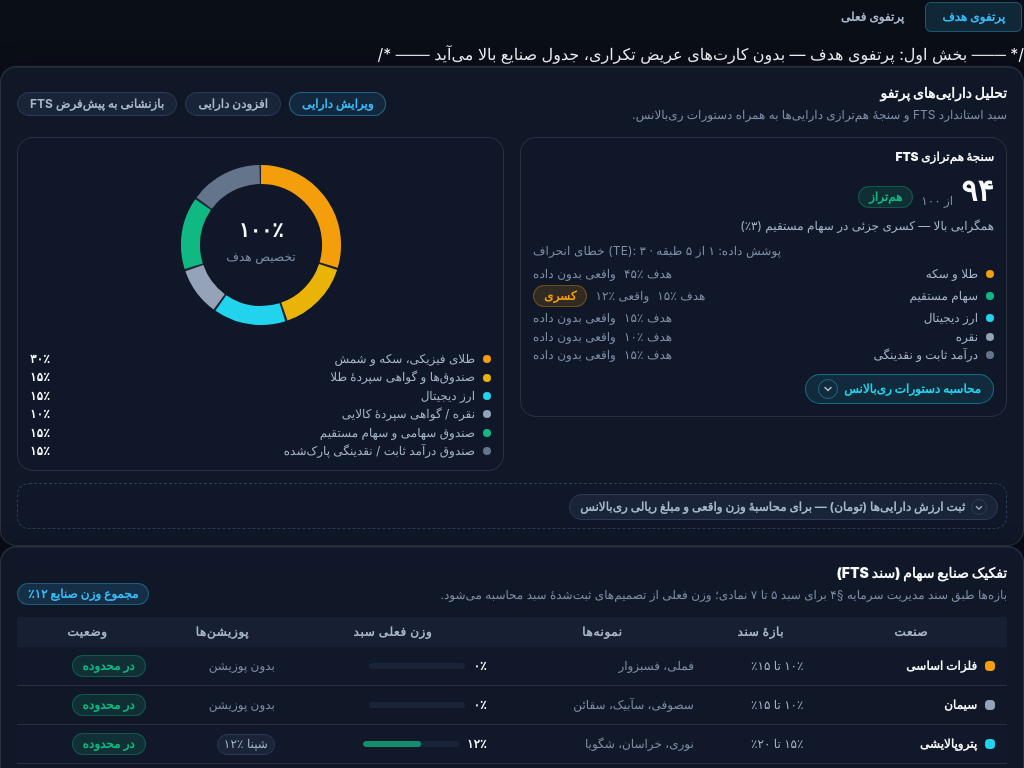
Test: سوییچر دوگانه و پرتفوی هدف › تب فعلی با کلیک باز می شود: نوار دلتا و جدول سبد
Click the tab "پرتفوی فعلی" at [872, 17], box [824,2,921,32]
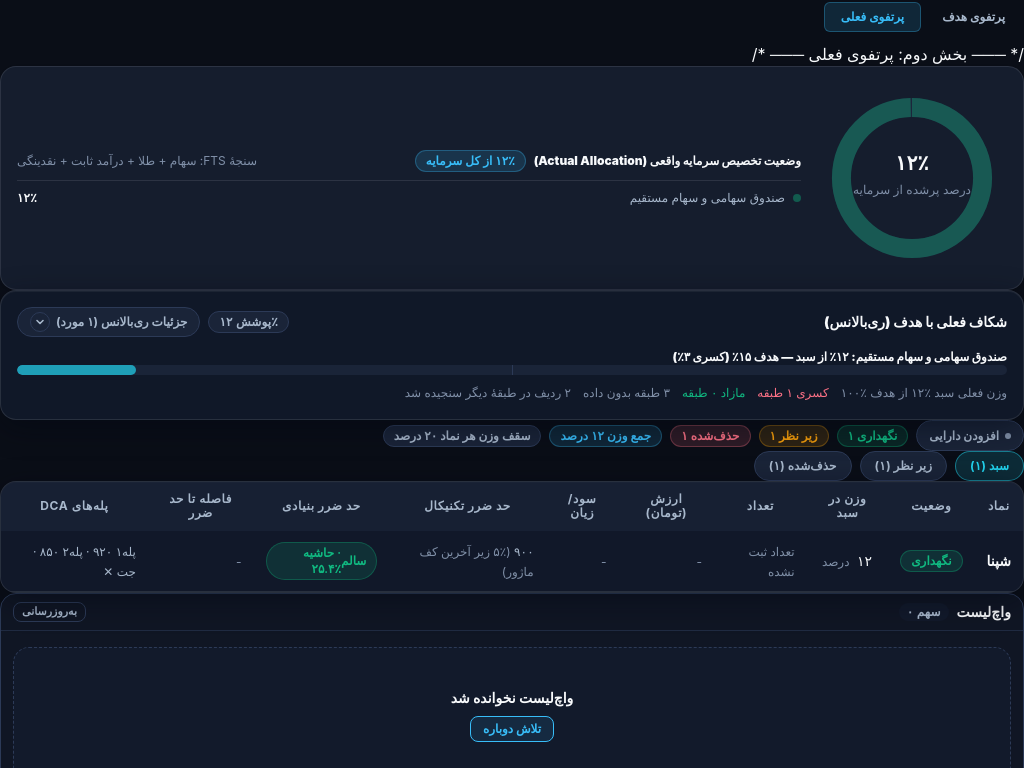
Now the heading "شکاف فعلی با هدف (ری‌بالانس)" is shown, box [824,312,1007,332]
Now the button "سبد (۱)" is shown, box [955,451,1023,481]
Now the button "زیر نظر (۱)" is shown, box [860,451,947,481]
